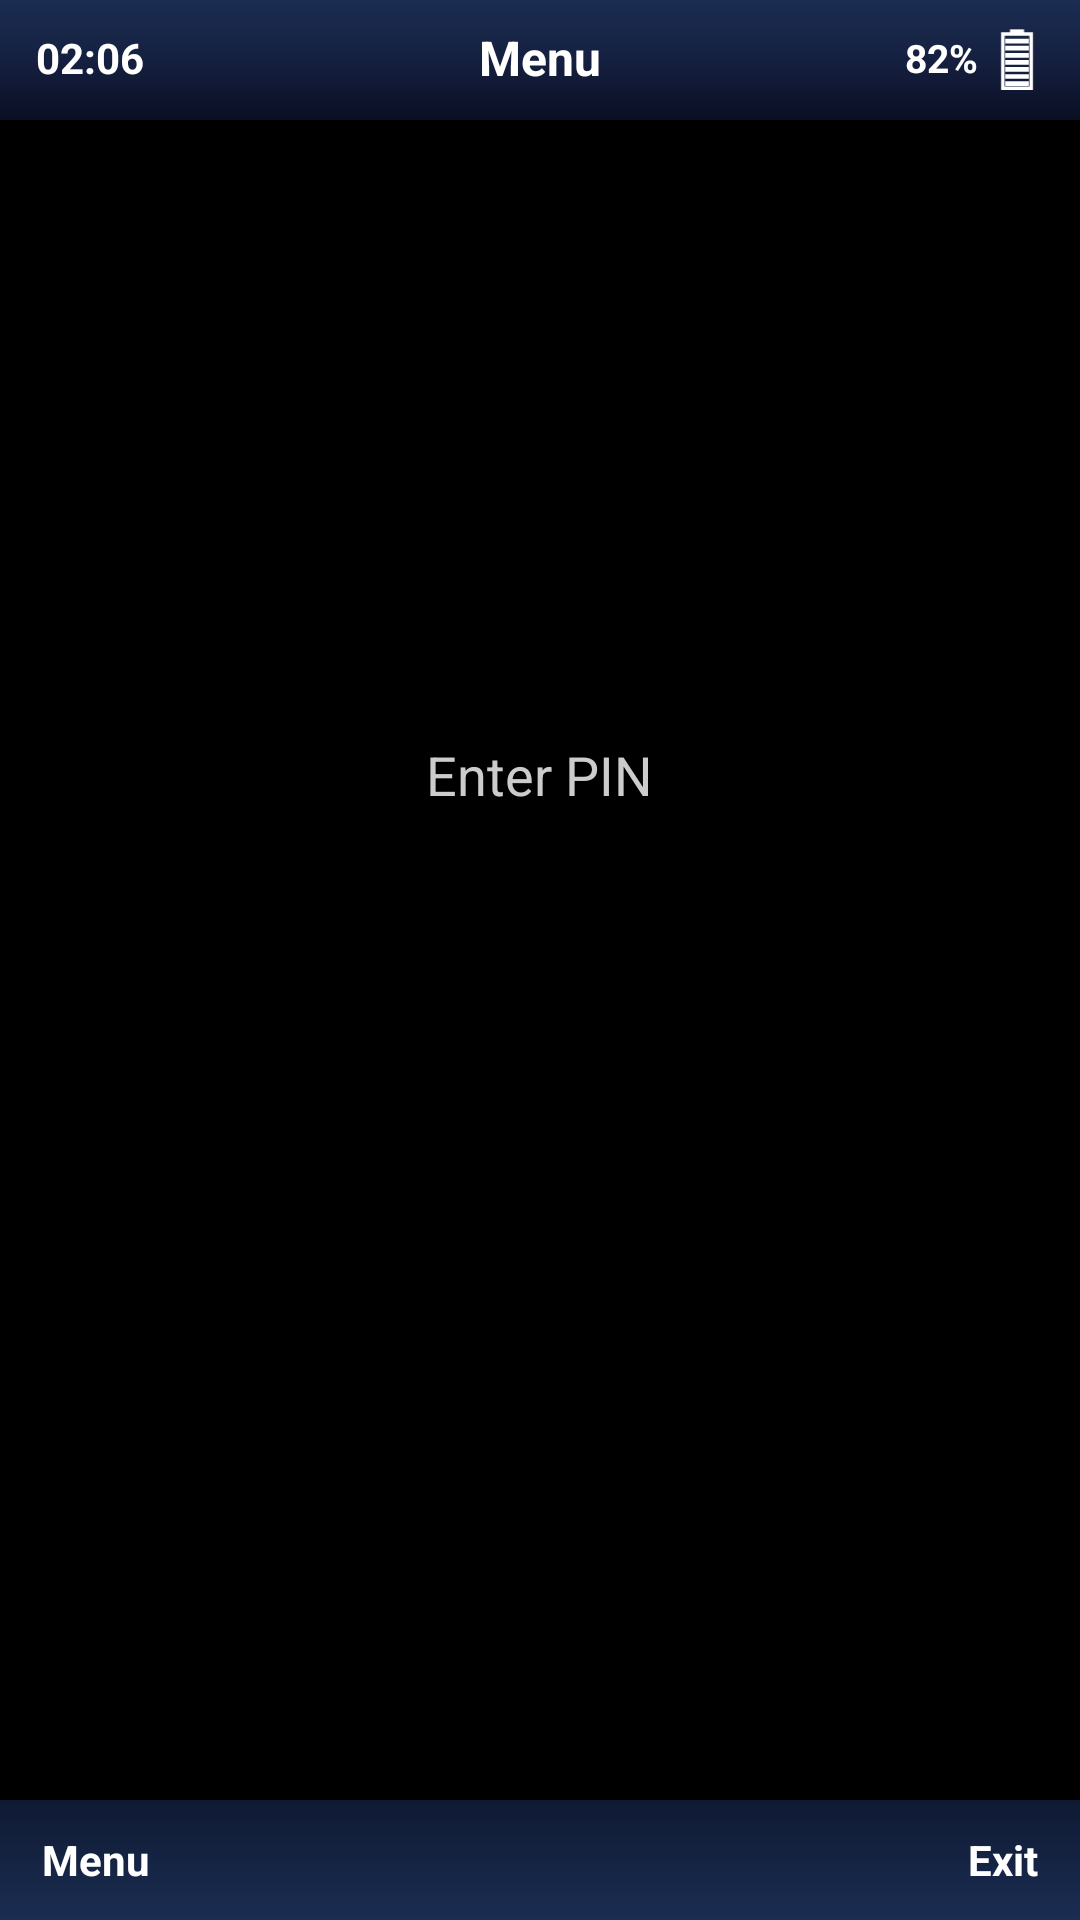

Where to tap for icons on this 1080px x 1920px app screen, as [x,y]:
battery bars: [1017,58]
